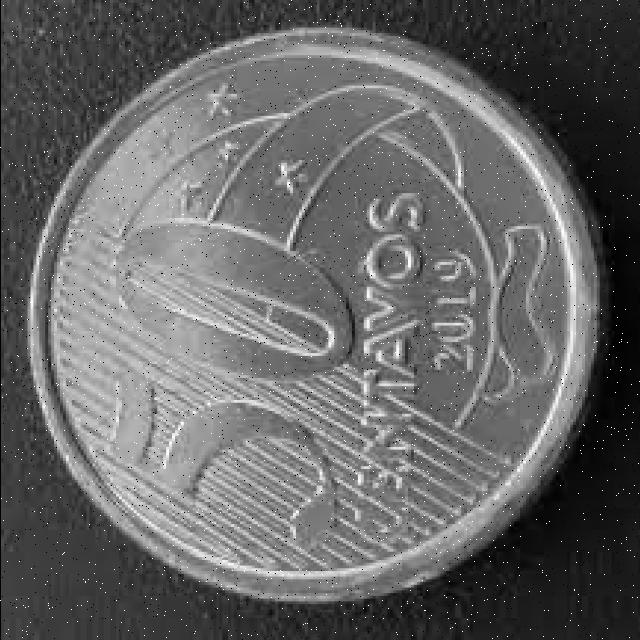50 cent: (24, 26, 598, 596)
